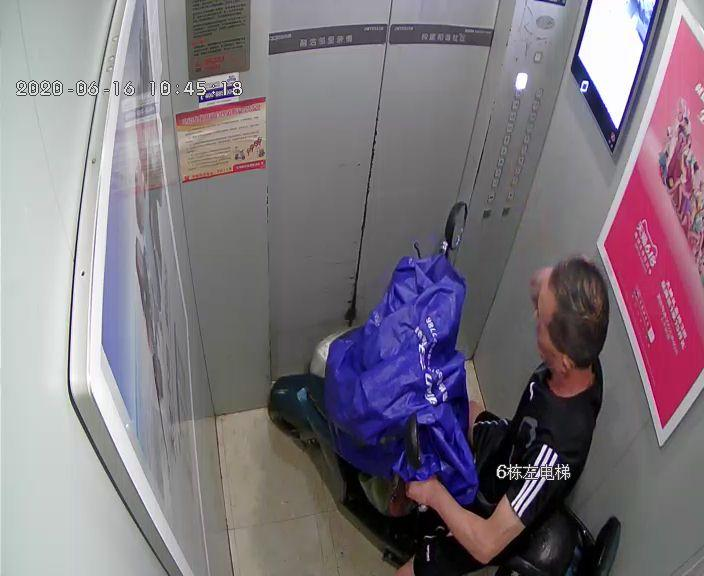Electric-bicycle: (262, 198, 617, 571)
